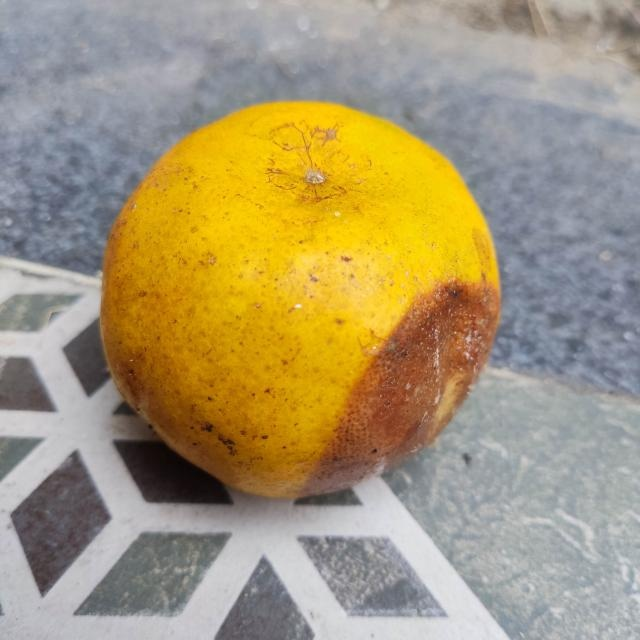agrume: (99, 98, 501, 496)
